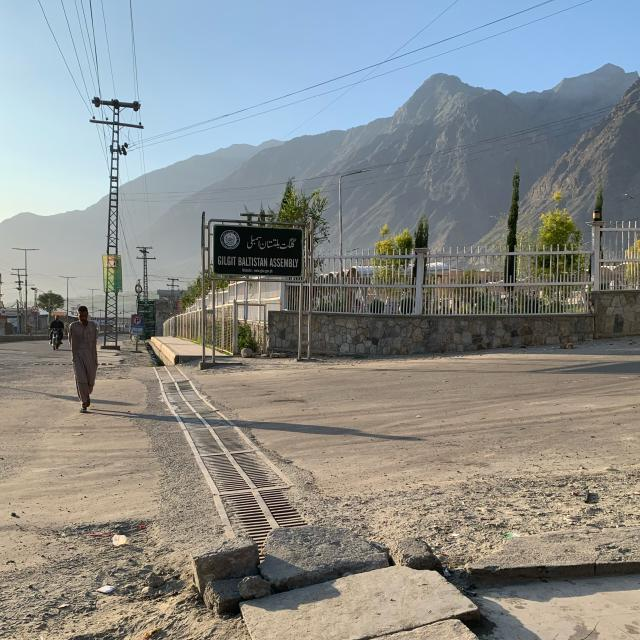Left-Turn: (0, 362, 320, 568)
straight: (0, 324, 134, 367)
